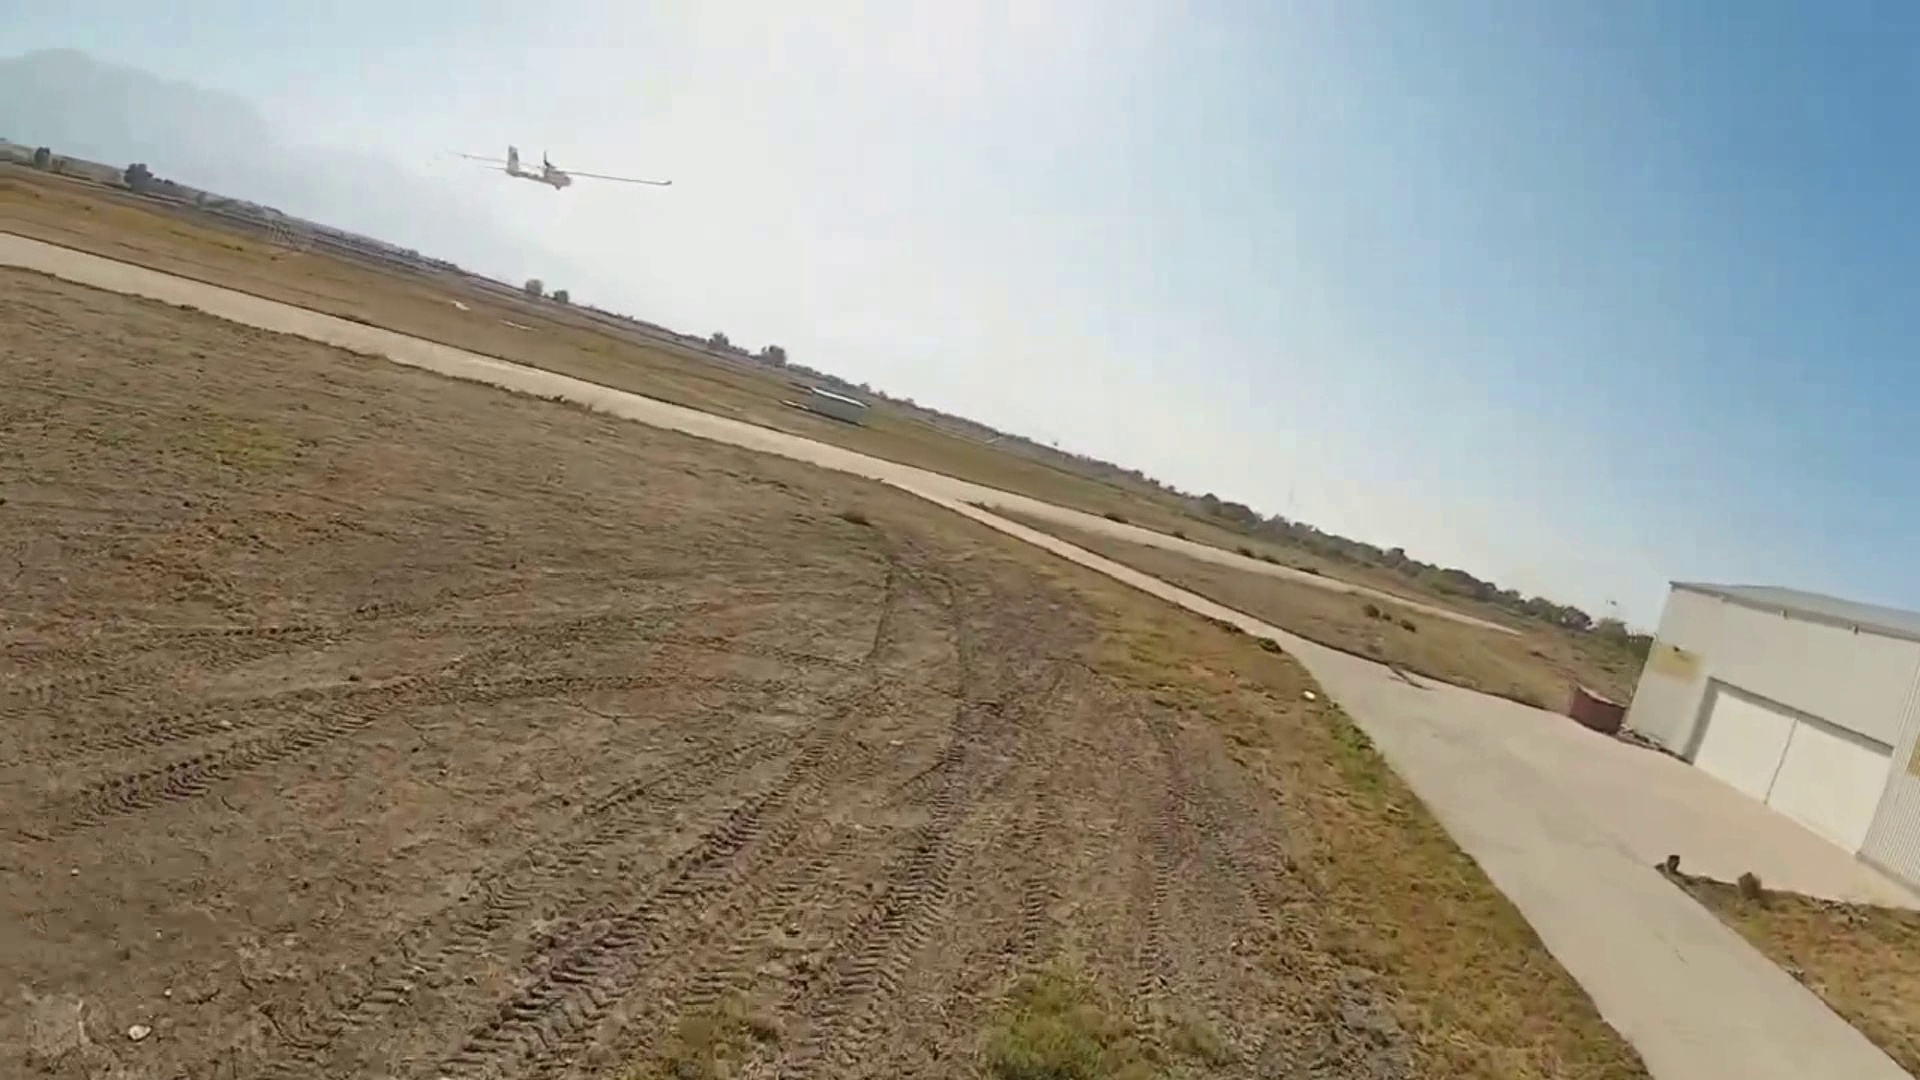airplane: (491, 145, 675, 194)
